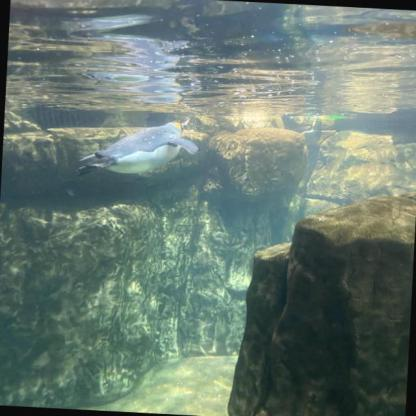penguin: (78, 111, 209, 184)
